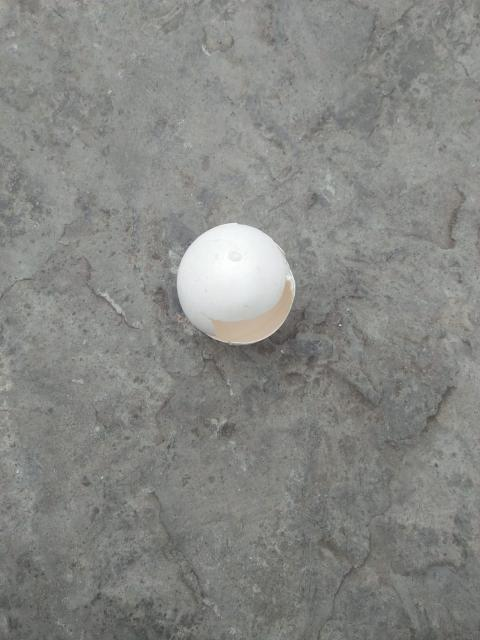Roto: (175, 221, 296, 346)
